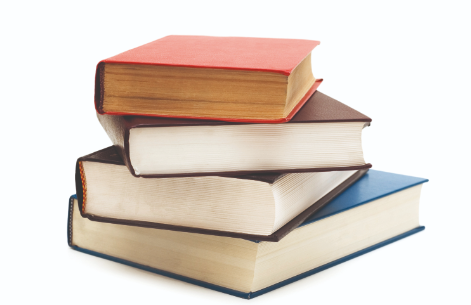book: (59, 176, 428, 298), (78, 156, 368, 243), (93, 34, 323, 124), (125, 93, 369, 177)
